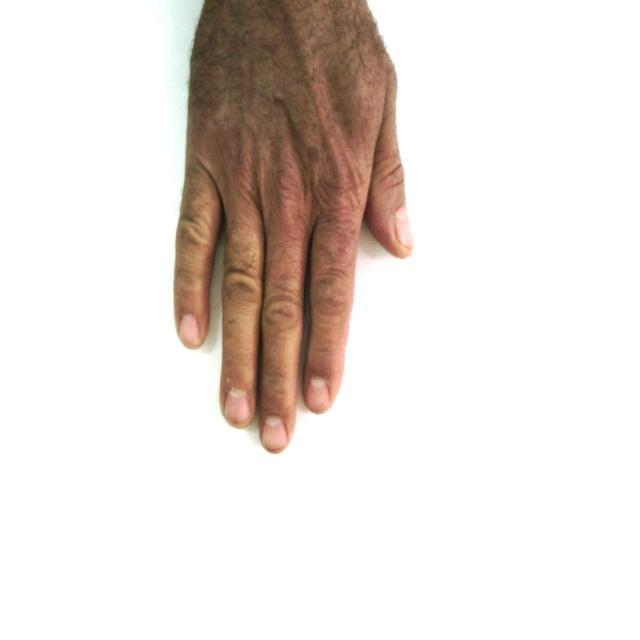Fingernail: (262, 417, 287, 448), (307, 378, 329, 410), (227, 391, 250, 421), (396, 209, 413, 248), (180, 316, 200, 345)
